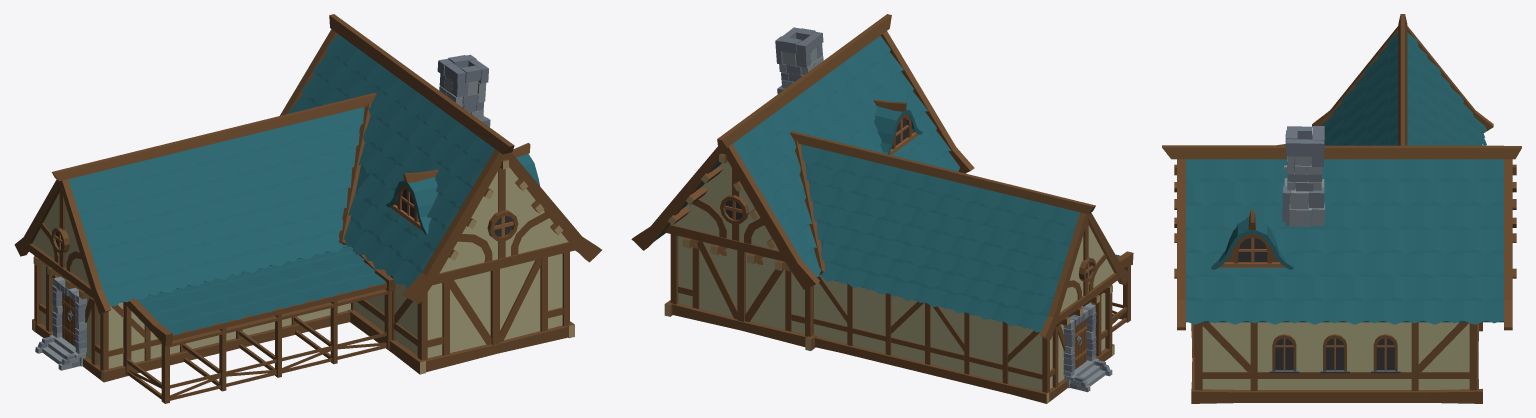
File: stable.glb
The picture shows the model from 3 angles, left to right: view 1: azimuth 30°, elevation 25°; view 2: azimuth 150°, elevation 25°; view 3: azimuth 270°, elevation 25°; orthographic projection. The views are drawn at different scales.
Visible parts, largest first — view 1: Stable; view 2: Stable; view 3: Stable.
Part boxes in pixels (x1=…): Stable: x1=14, y1=14, x2=601, y2=403; Stable: x1=631, y1=14, x2=1133, y2=403; Stable: x1=1162, y1=14, x2=1521, y2=403.
Bounding box in the file's own units: 4.7 × 2.49 × 3.33.
